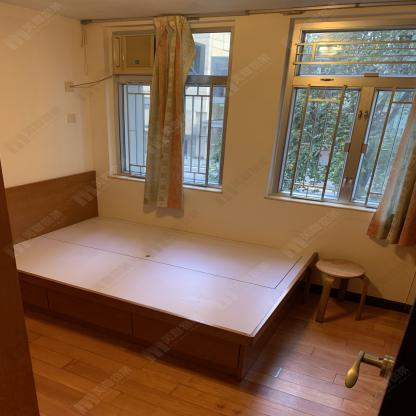AC: (113, 33, 170, 75)
Bed Frame: (5, 170, 320, 384)
